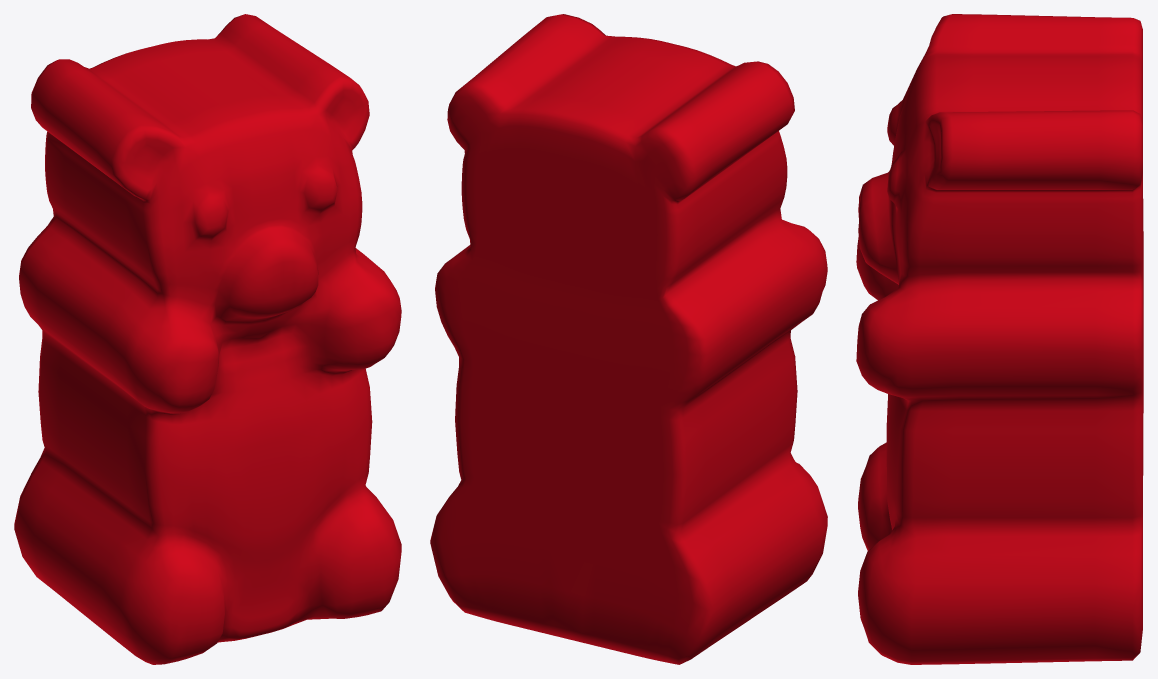
The model's file is GummyBear.fbx.
3 renders of one model, left to right at view 1: azimuth 30°, elevation 25°; view 2: azimuth 150°, elevation 25°; view 3: azimuth 270°, elevation 25°, orthographic. The views are drawn at different scales.
Visible parts, largest first — view 1: GummyBear; view 2: GummyBear; view 3: GummyBear.
Part boxes in pixels (left/top/right/bottom): GummyBear: left=14, top=14, right=401, bottom=664; GummyBear: left=430, top=14, right=827, bottom=664; GummyBear: left=856, top=14, right=1143, bottom=664.
Size of the model in its own units: 12.56 by 22.54 by 10.8.
